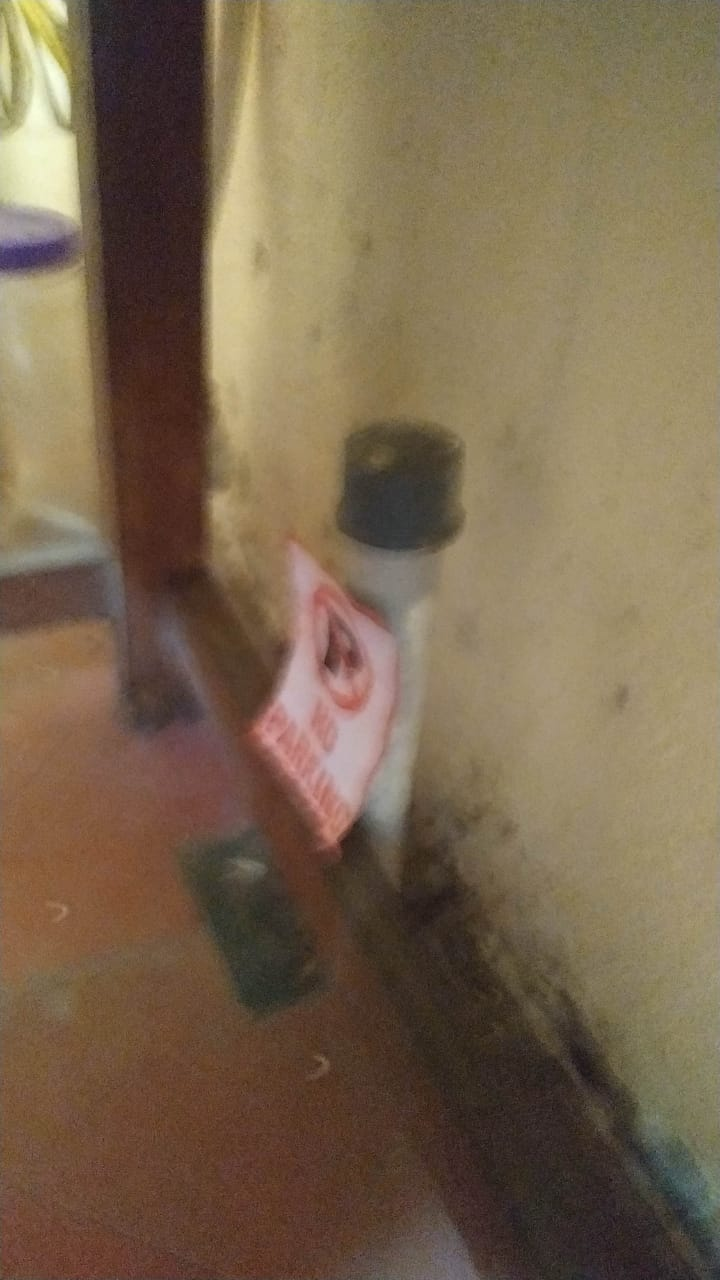NO PARKING: (252, 511, 397, 857)
